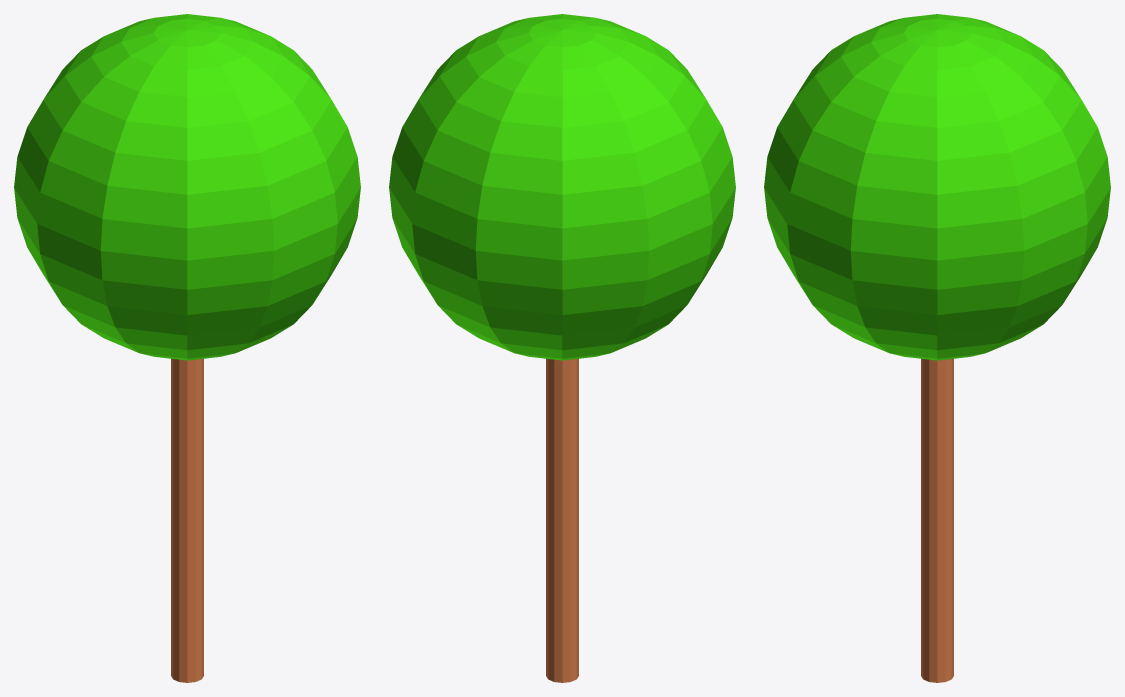
File: tree 1.fbx
3 views of the same model, side by side, from view 1: azimuth 30°, elevation 25°; view 2: azimuth 150°, elevation 25°; view 3: azimuth 270°, elevation 25° (orthographic).
Parts seen in each view (by area): view 1: tree; view 2: tree; view 3: tree.
Part boxes in pixels (x1,y1,x2,y2): tree: (14,14,360,682); tree: (389,14,735,682); tree: (764,14,1110,682).
Size of the model in its own units: 2.43 by 4.99 by 2.43.
